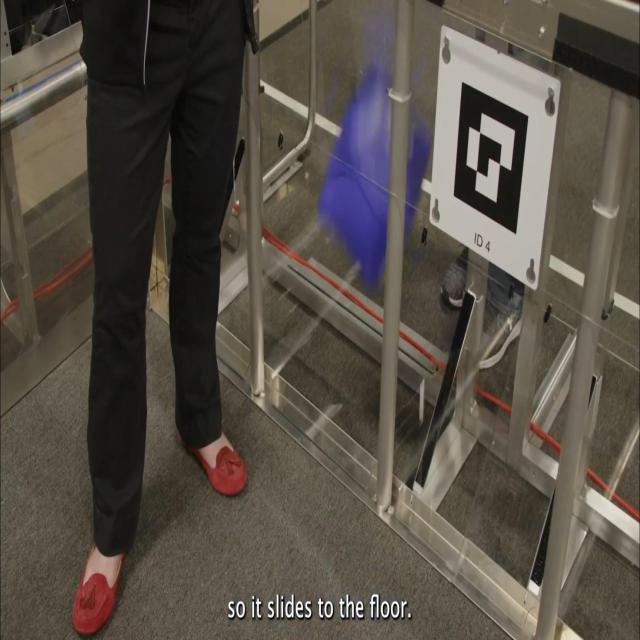frc_cube: (318, 70, 432, 278)
